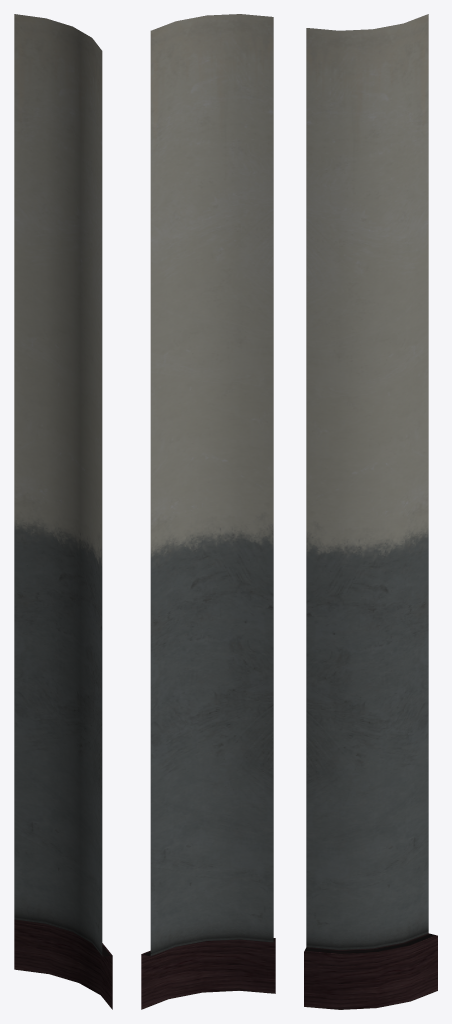
File: Wall 4 Corner Pillar 4.fbx
3 renders of one model, left to right at view 1: azimuth 90°, elevation 25°; view 2: azimuth 150°, elevation 25°; view 3: azimuth 330°, elevation 25°, orthographic. The views are drawn at different scales.
Parts seen in each view (by area): view 1: Wall_4_Corner_Pillar_4; view 2: Wall_4_Corner_Pillar_4; view 3: Wall_4_Corner_Pillar_4.
Part boxes in pixels (<box>): Wall_4_Corner_Pillar_4: <box>14,14,112,1009</box>; Wall_4_Corner_Pillar_4: <box>141,14,275,1009</box>; Wall_4_Corner_Pillar_4: <box>304,14,437,1009</box>.
Bounding box in the file's own units: 27.94 × 300 × 27.79.
